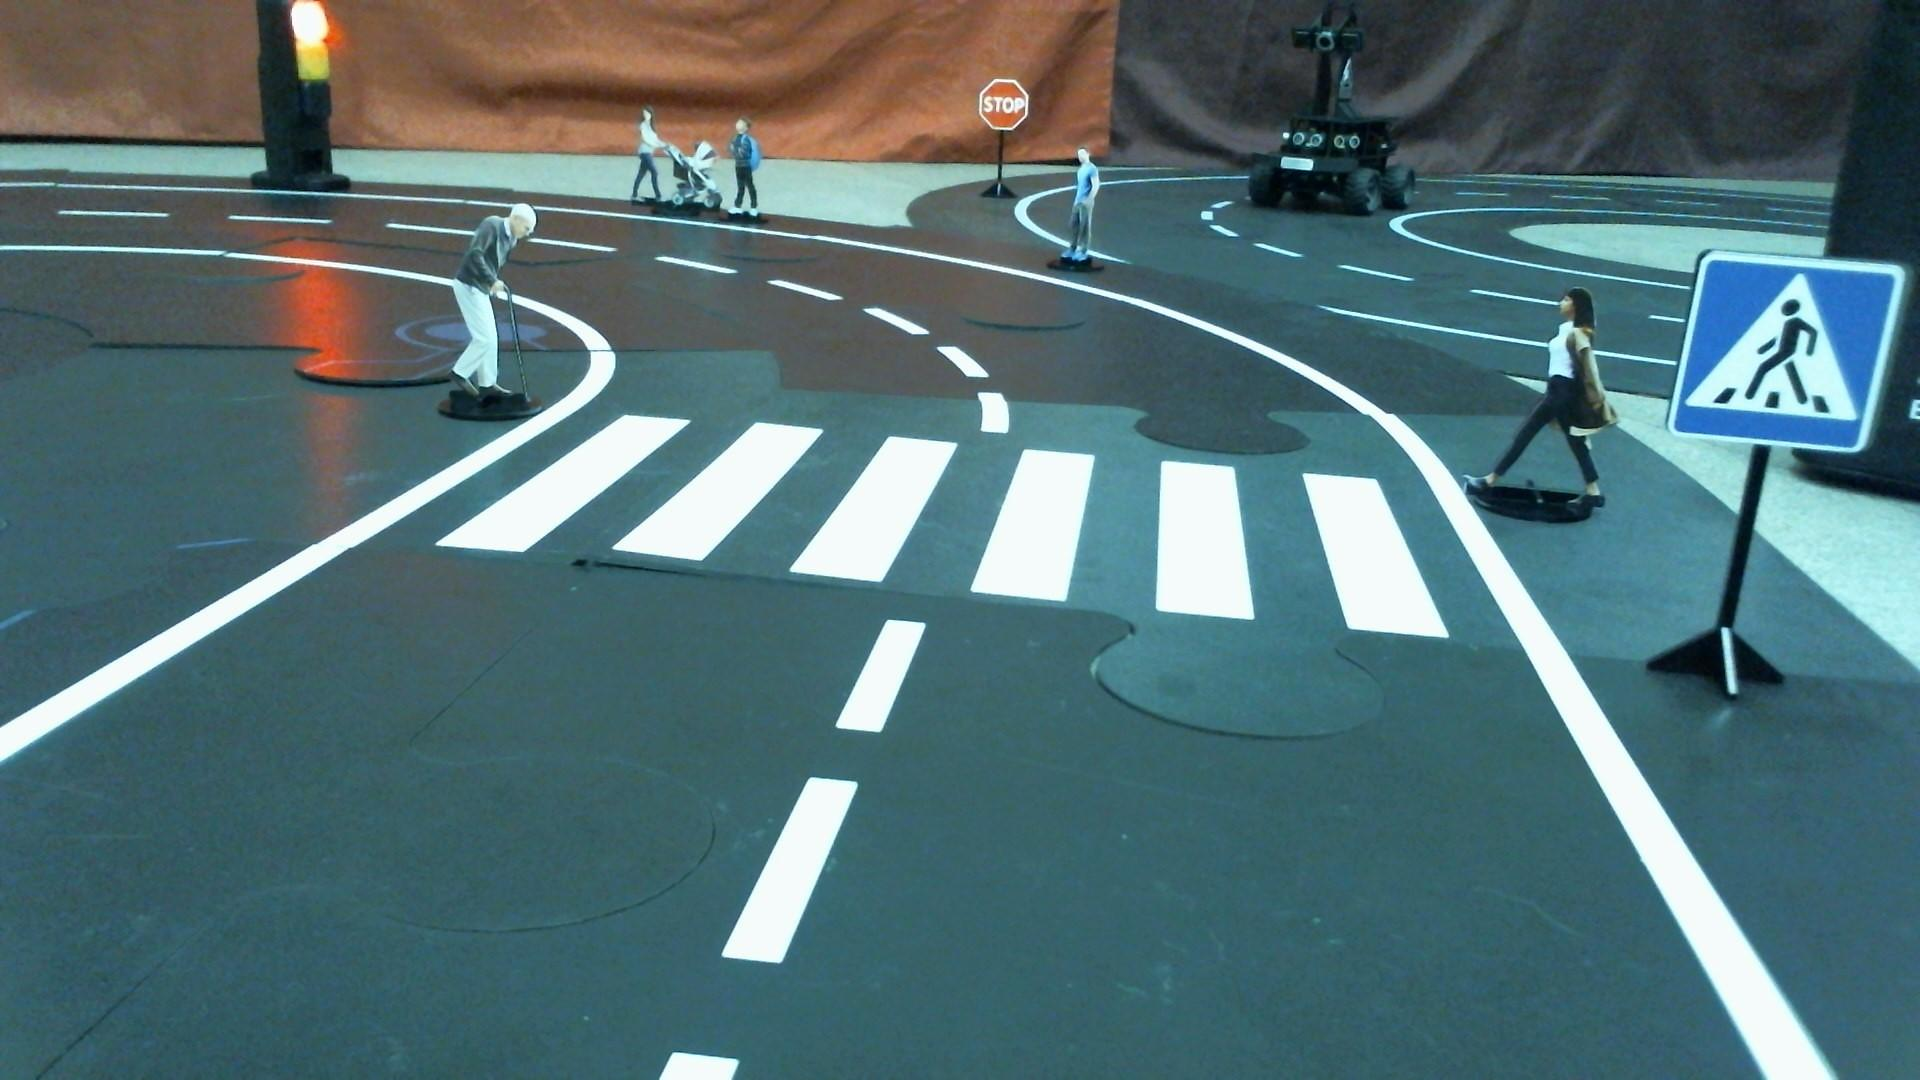crossing: (435, 412, 1465, 647)
person: (1465, 282, 1612, 522), (443, 203, 542, 410), (630, 105, 725, 218), (1058, 148, 1103, 268), (728, 112, 765, 217)
